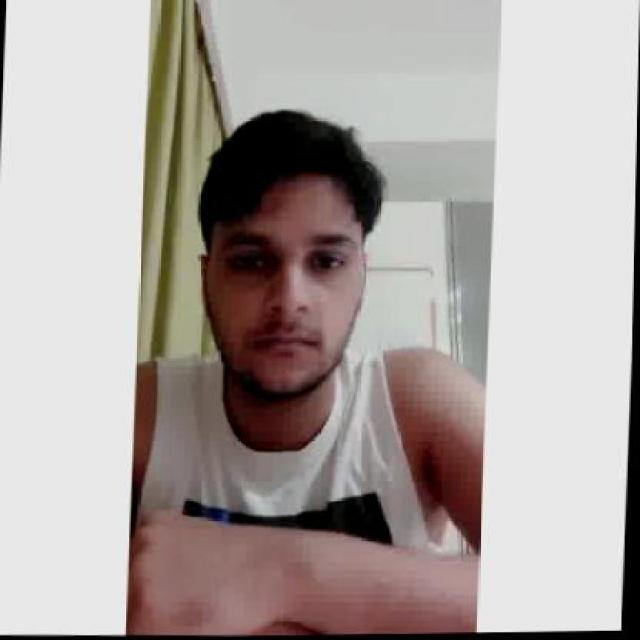attentif: (195, 104, 372, 405)
